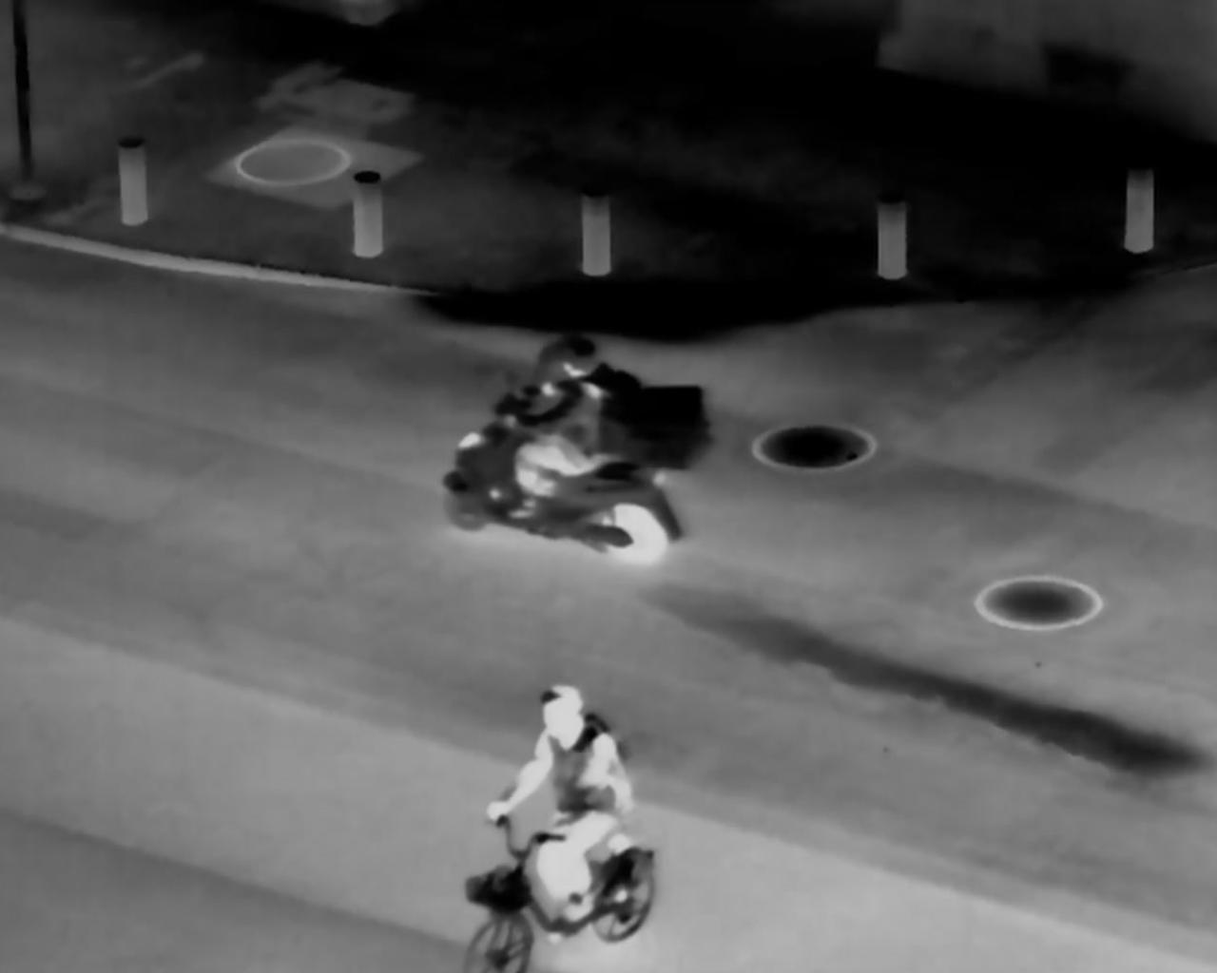person: (488, 674, 645, 954), (509, 326, 629, 521)
